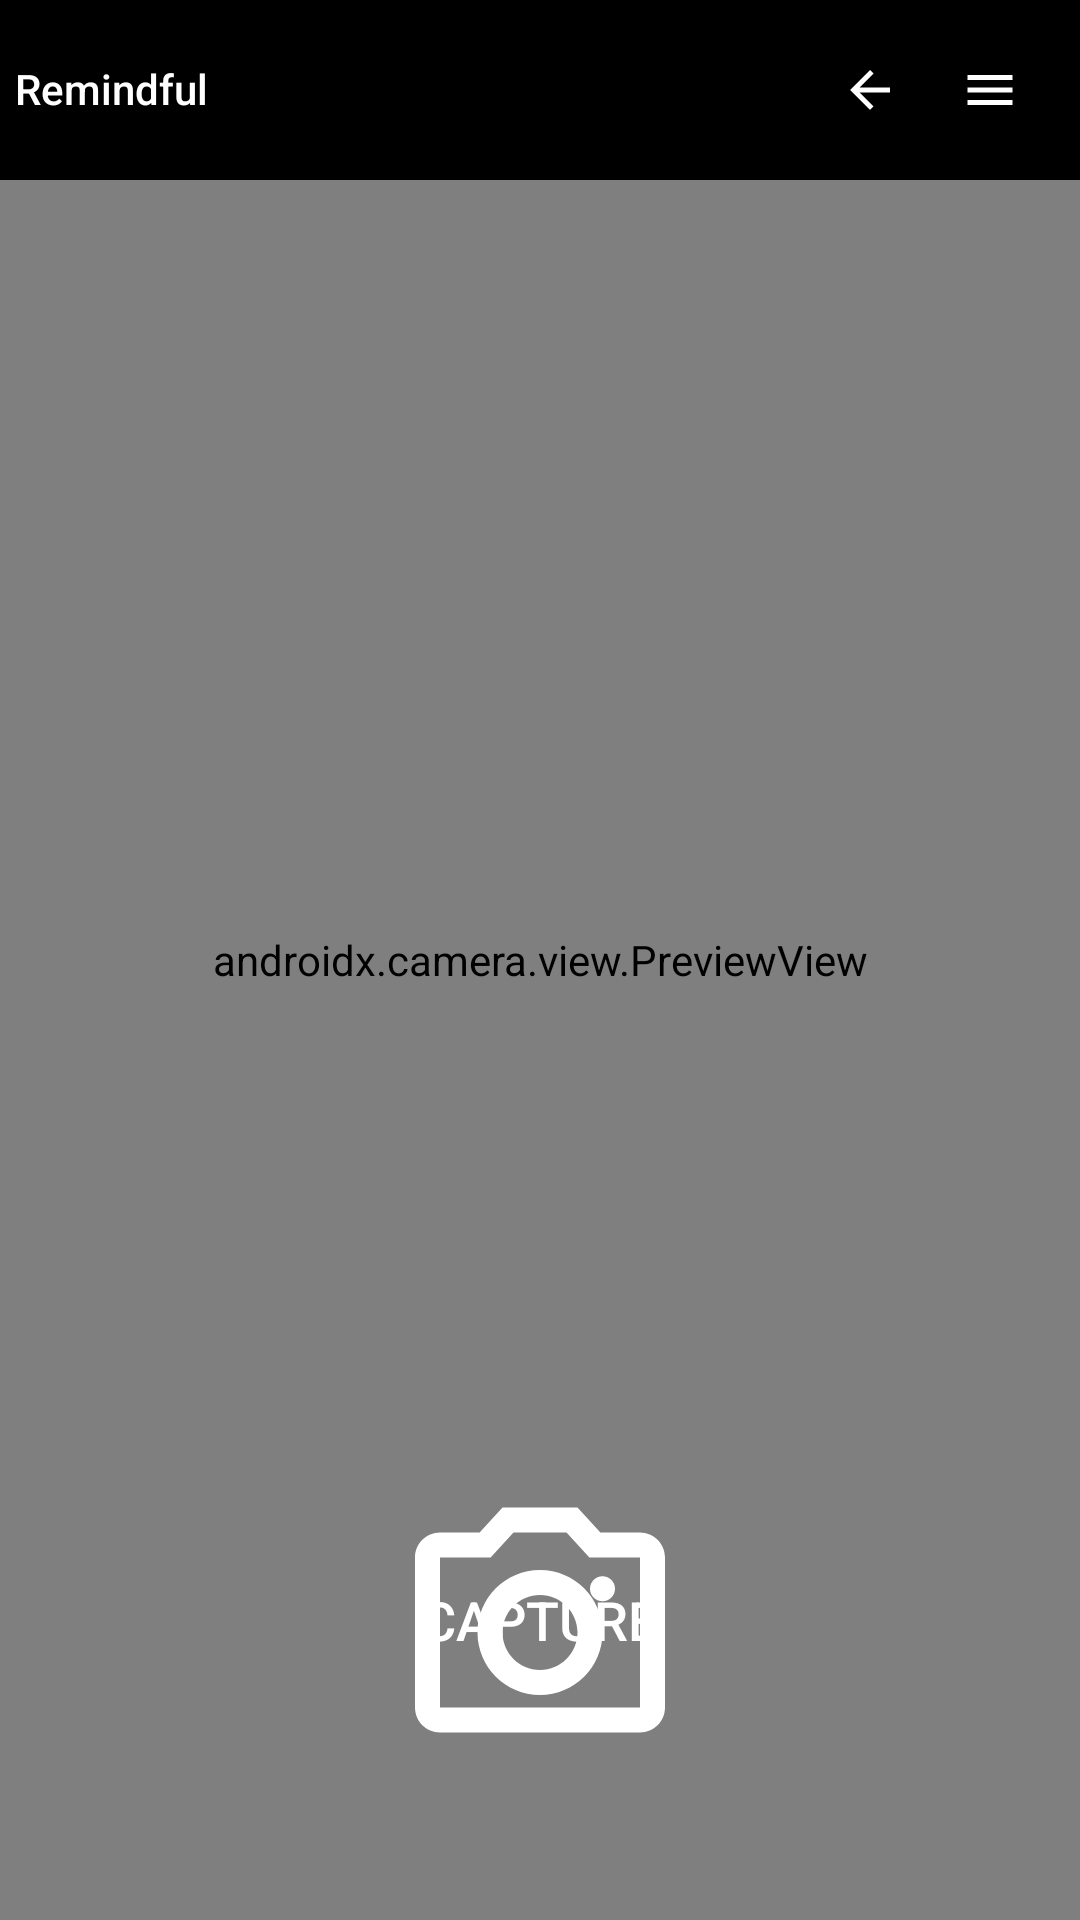

Screen size 1080px×1920px. Icon name, then its box in pixels as [x1, y1, x2, y2]:
arrow back: [850, 70, 890, 110]
Menu Icon: [967, 75, 1013, 105]
